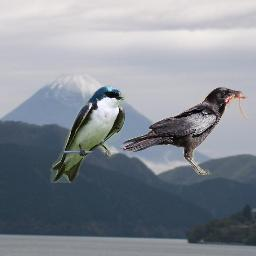Crow: (120, 84, 255, 175)
Swallow: (50, 85, 125, 183)
